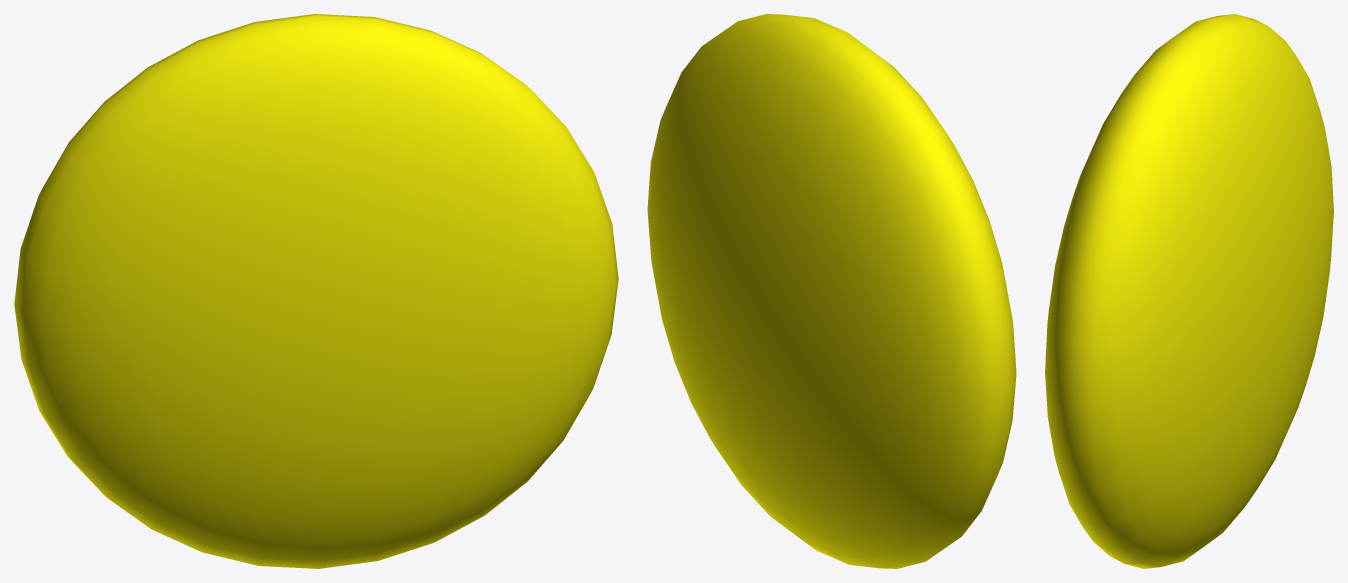
The model's file is Coin.fbx.
3 renders of one model, left to right at view 1: azimuth 30°, elevation 25°; view 2: azimuth 150°, elevation 25°; view 3: azimuth 270°, elevation 25°, orthographic. The views are drawn at different scales.
Parts seen in each view (by area): view 1: Coin; view 2: Coin; view 3: Coin.
Part boxes in pixels (box(x1,y1,x2,y2)): Coin: box(14, 14, 618, 568); Coin: box(647, 14, 1016, 568); Coin: box(1045, 14, 1333, 568).
Bounding box in the file's own units: 138 × 150 × 76.73.
